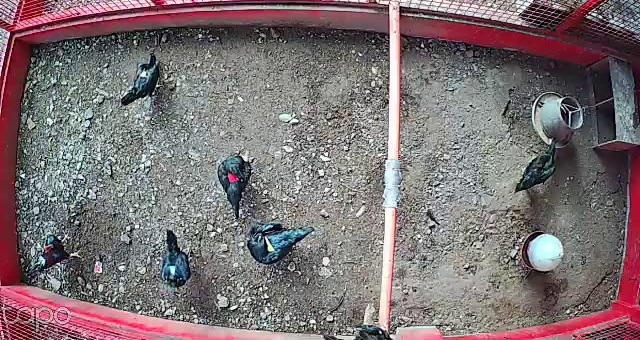Chicken: (244, 213, 311, 268), (121, 41, 167, 109), (213, 154, 255, 225), (516, 137, 564, 192), (157, 222, 194, 286)
Rooster: (24, 224, 85, 274)
Saddle_Color_Blue: (169, 265, 176, 273)
Saddle_Color_Red: (228, 172, 238, 183)
Saddle_Color_Yellow: (258, 233, 276, 255)
